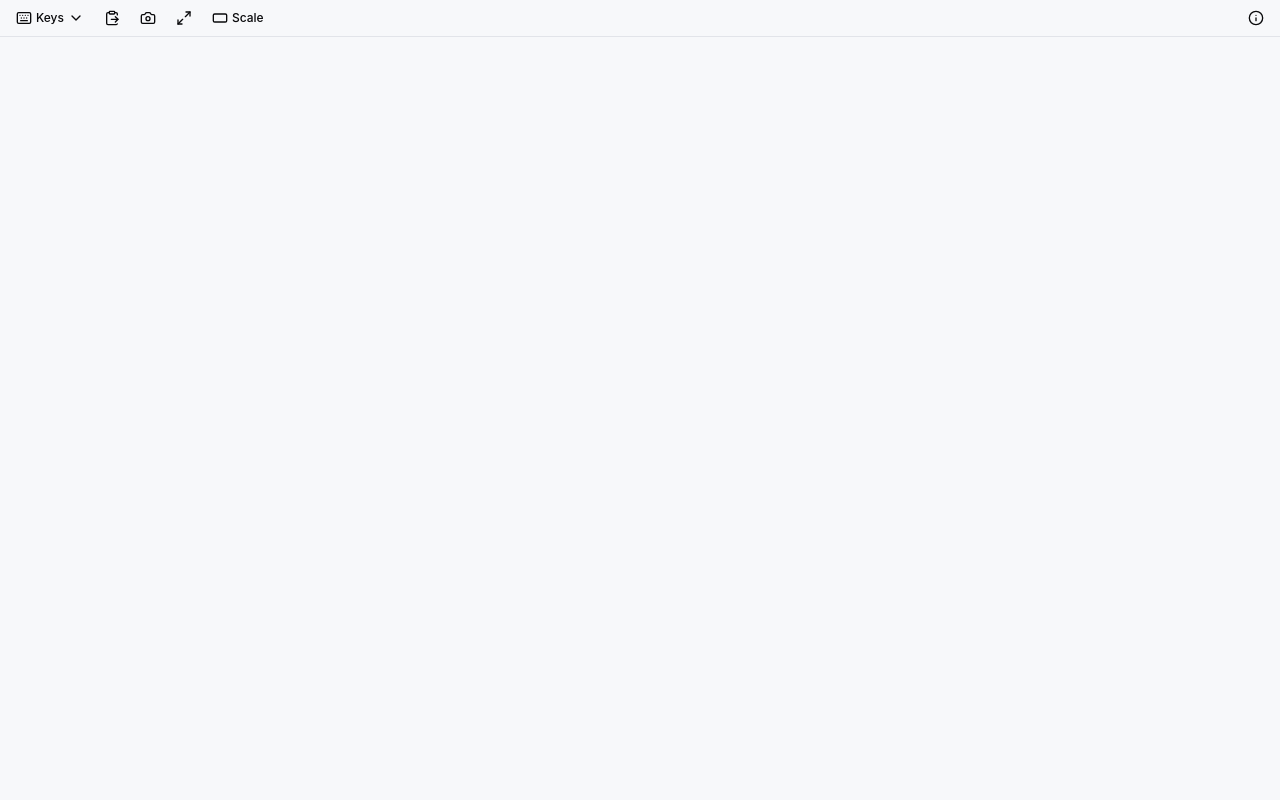
Test: VNCToolbar — paste › gives focus to the console once the text is sent
This screenshot has width=1280, height=800.
Click the button named "Paste text into console" at (112, 18), box [96,4,128,32]
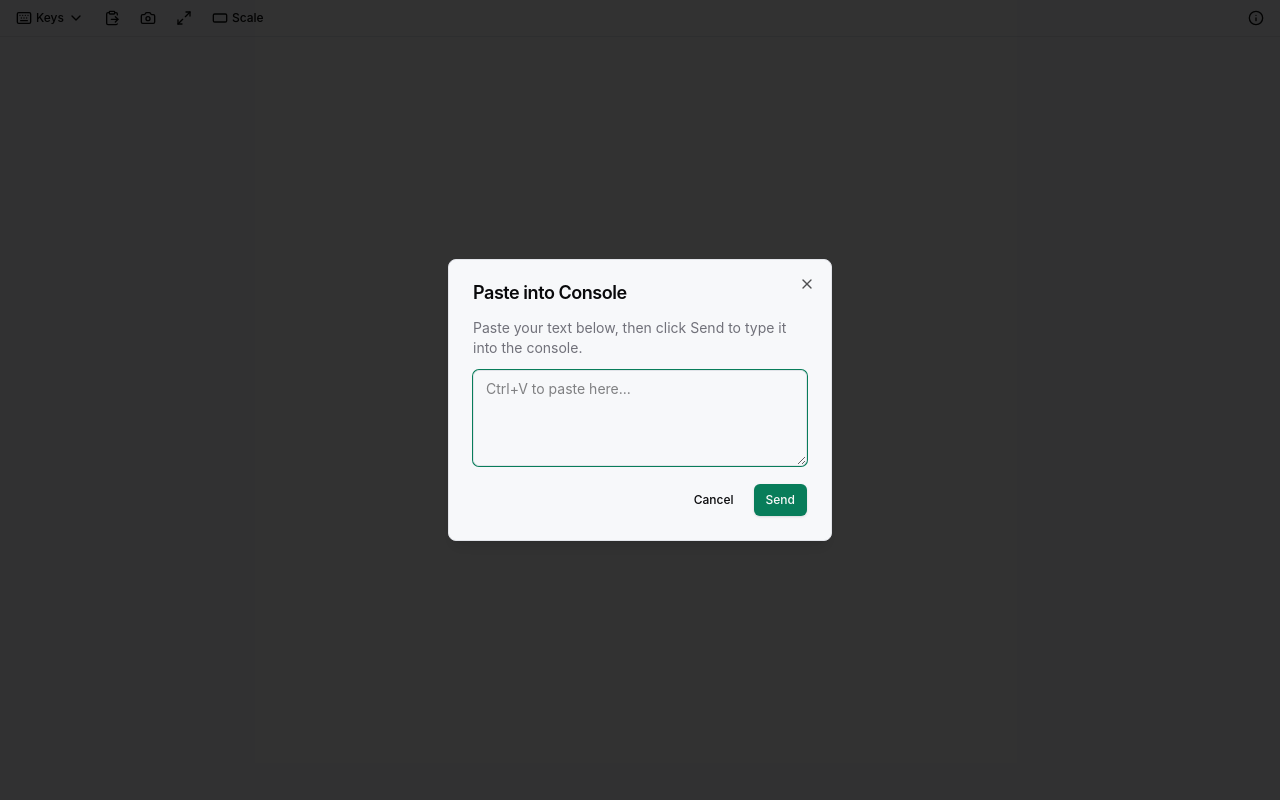
Type "ls" into the text box at (640, 418), box [473,370,807,466]
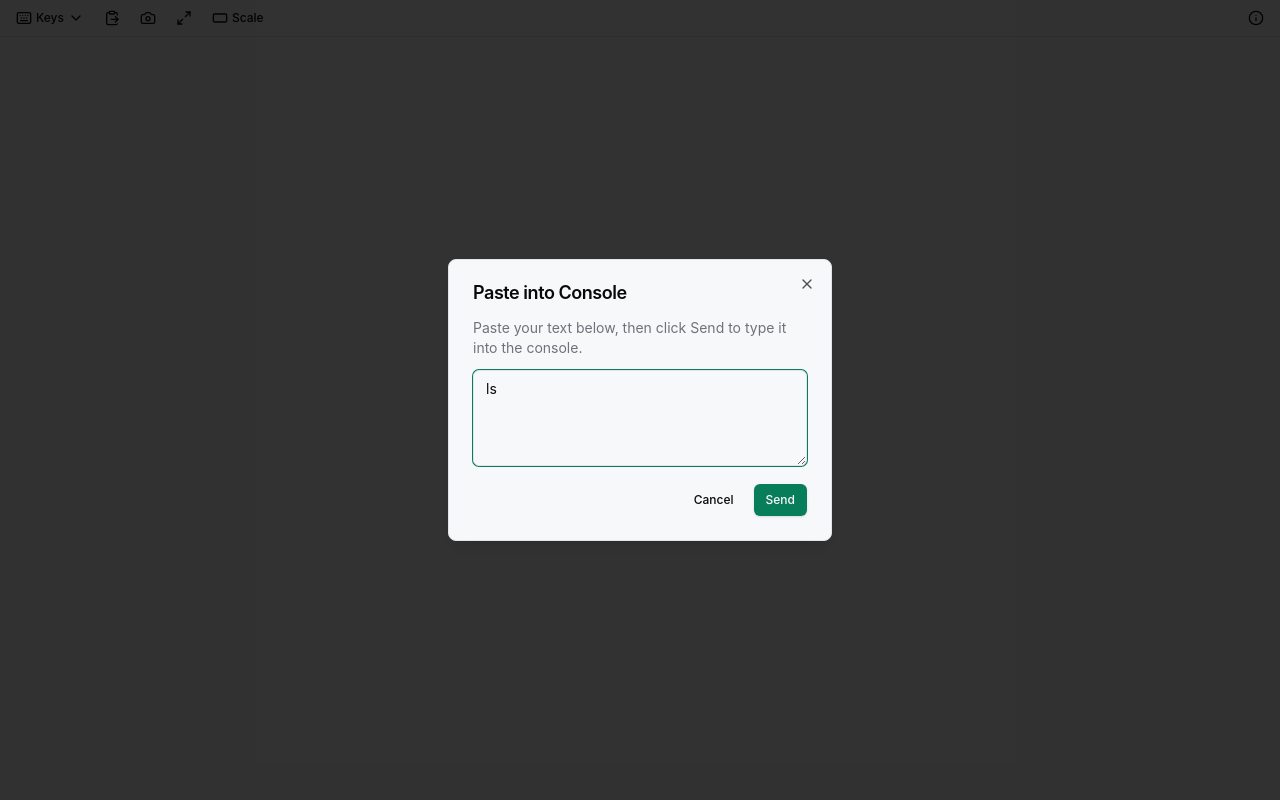
Click the button "Send" at (780, 500), box [754,484,807,516]
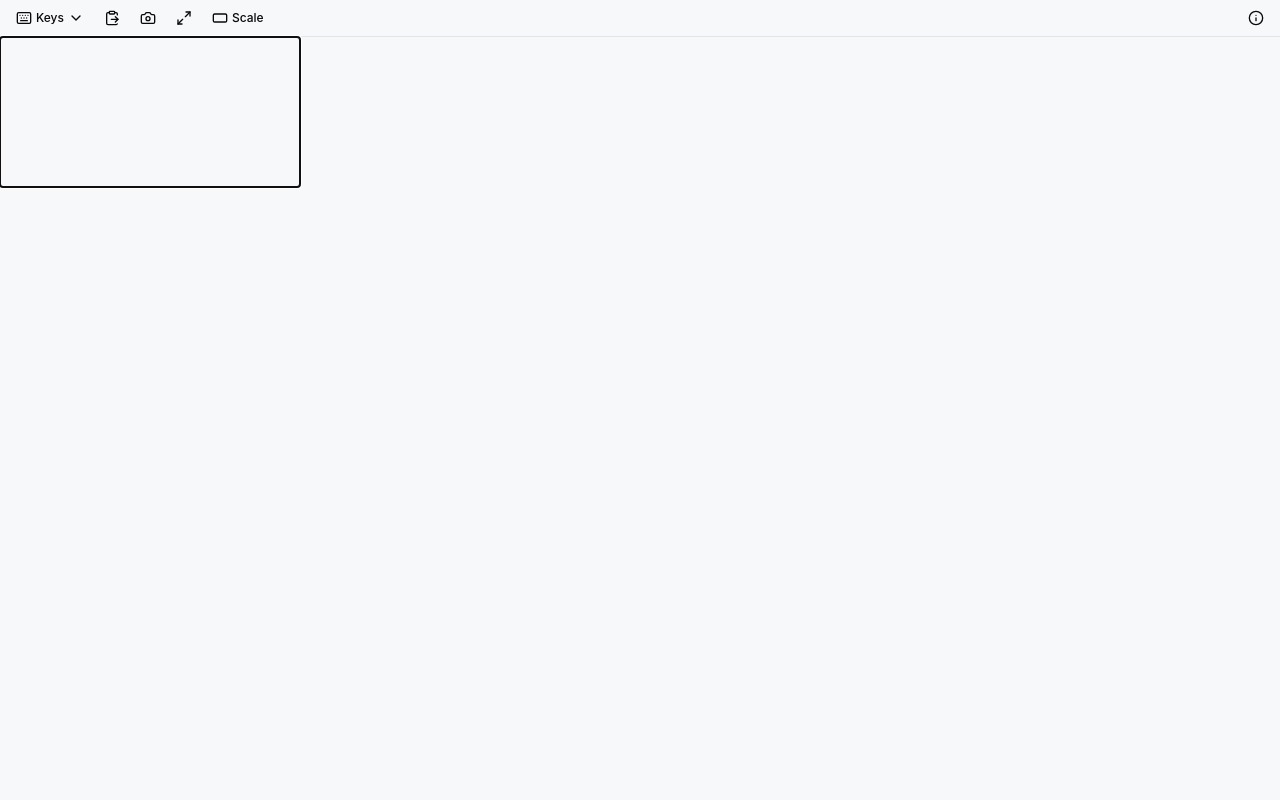
expect the dialog is gone: met
